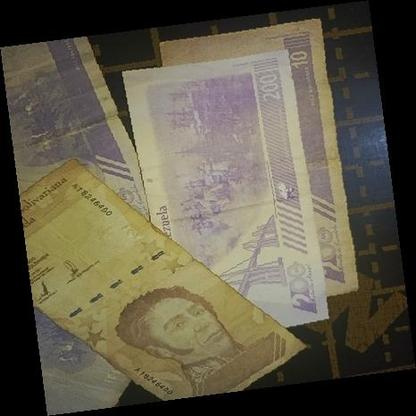five-front-vef: (22, 160, 308, 406)
ten-back-vef: (158, 19, 358, 302), (0, 35, 154, 264), (27, 296, 154, 412)
two_hundred-back-vef: (120, 50, 330, 336)
